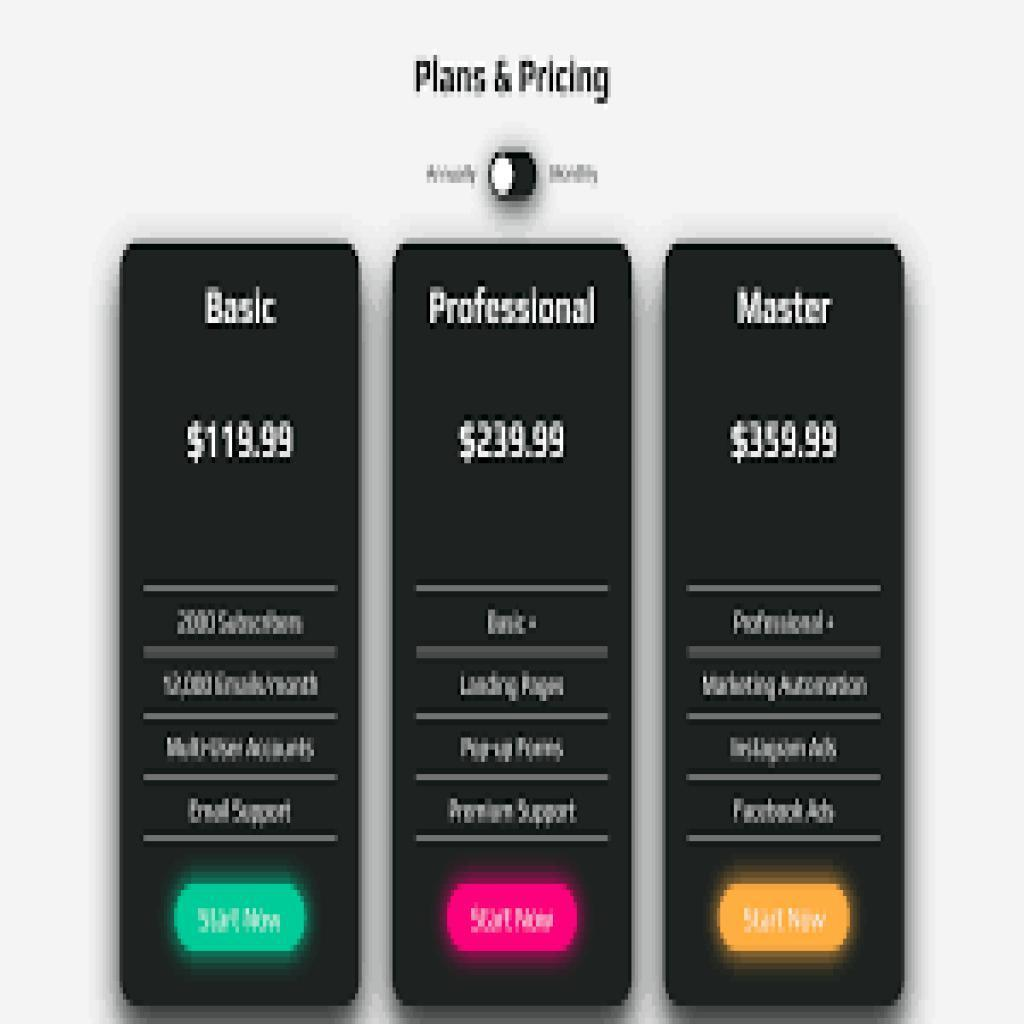button: (715, 883, 854, 956), (446, 884, 581, 959), (176, 880, 309, 955)
switch: (485, 142, 543, 212)
